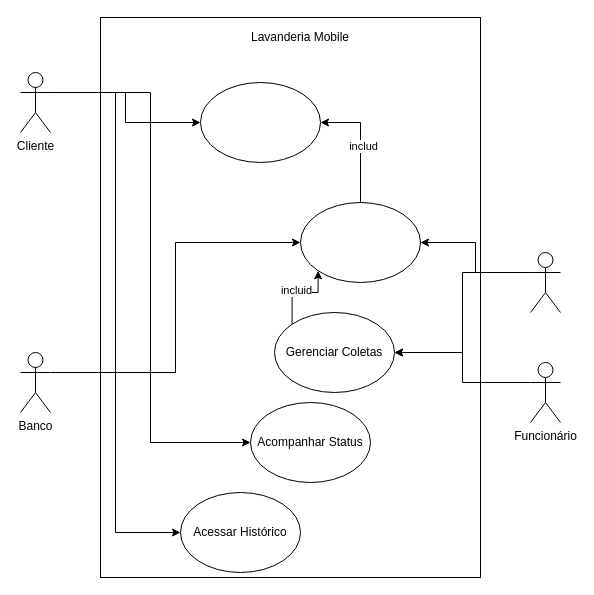
Some shapes in this 594 by 595 pixel diagram are drawn without their labels. The centre of each missing label's shape, as x and y in pixels:
"Fazer Pedido" goes at point 260,122.
"Loja" goes at point 545,282.
"Processamento de Pagamento" goes at point 360,242.
